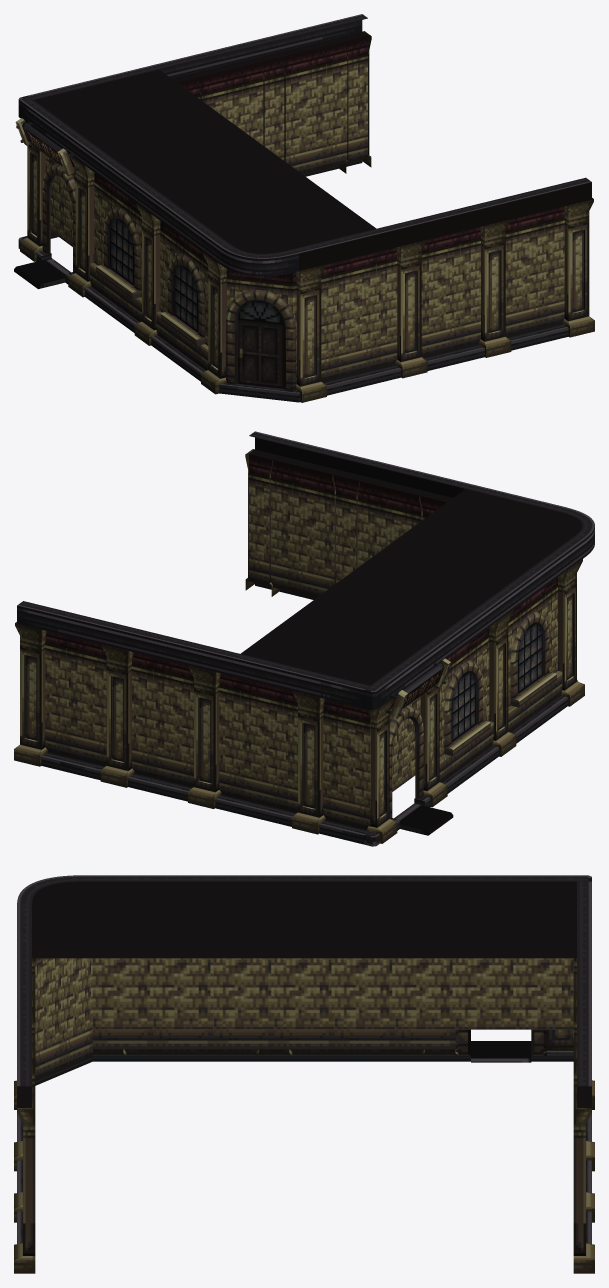
The model's file is EnvBdgMD_City_A_Outdoor_Bar.FBX.
3 views of the same model, one above another, from view 1: azimuth 30°, elevation 25°; view 2: azimuth 150°, elevation 25°; view 3: azimuth 270°, elevation 25° (orthographic). The views are drawn at different scales.
Parts seen in each view (by area): view 1: EnvBdgMD_City_A_Outdoor_Bar; view 2: EnvBdgMD_City_A_Outdoor_Bar; view 3: EnvBdgMD_City_A_Outdoor_Bar.
Boxes of the visible parts, x1,y1,x2,y2 form: EnvBdgMD_City_A_Outdoor_Bar: (14, 14, 594, 402); EnvBdgMD_City_A_Outdoor_Bar: (14, 431, 594, 846); EnvBdgMD_City_A_Outdoor_Bar: (14, 875, 594, 1273).
Bounding box in the file's own units: 895 × 340 × 960.
